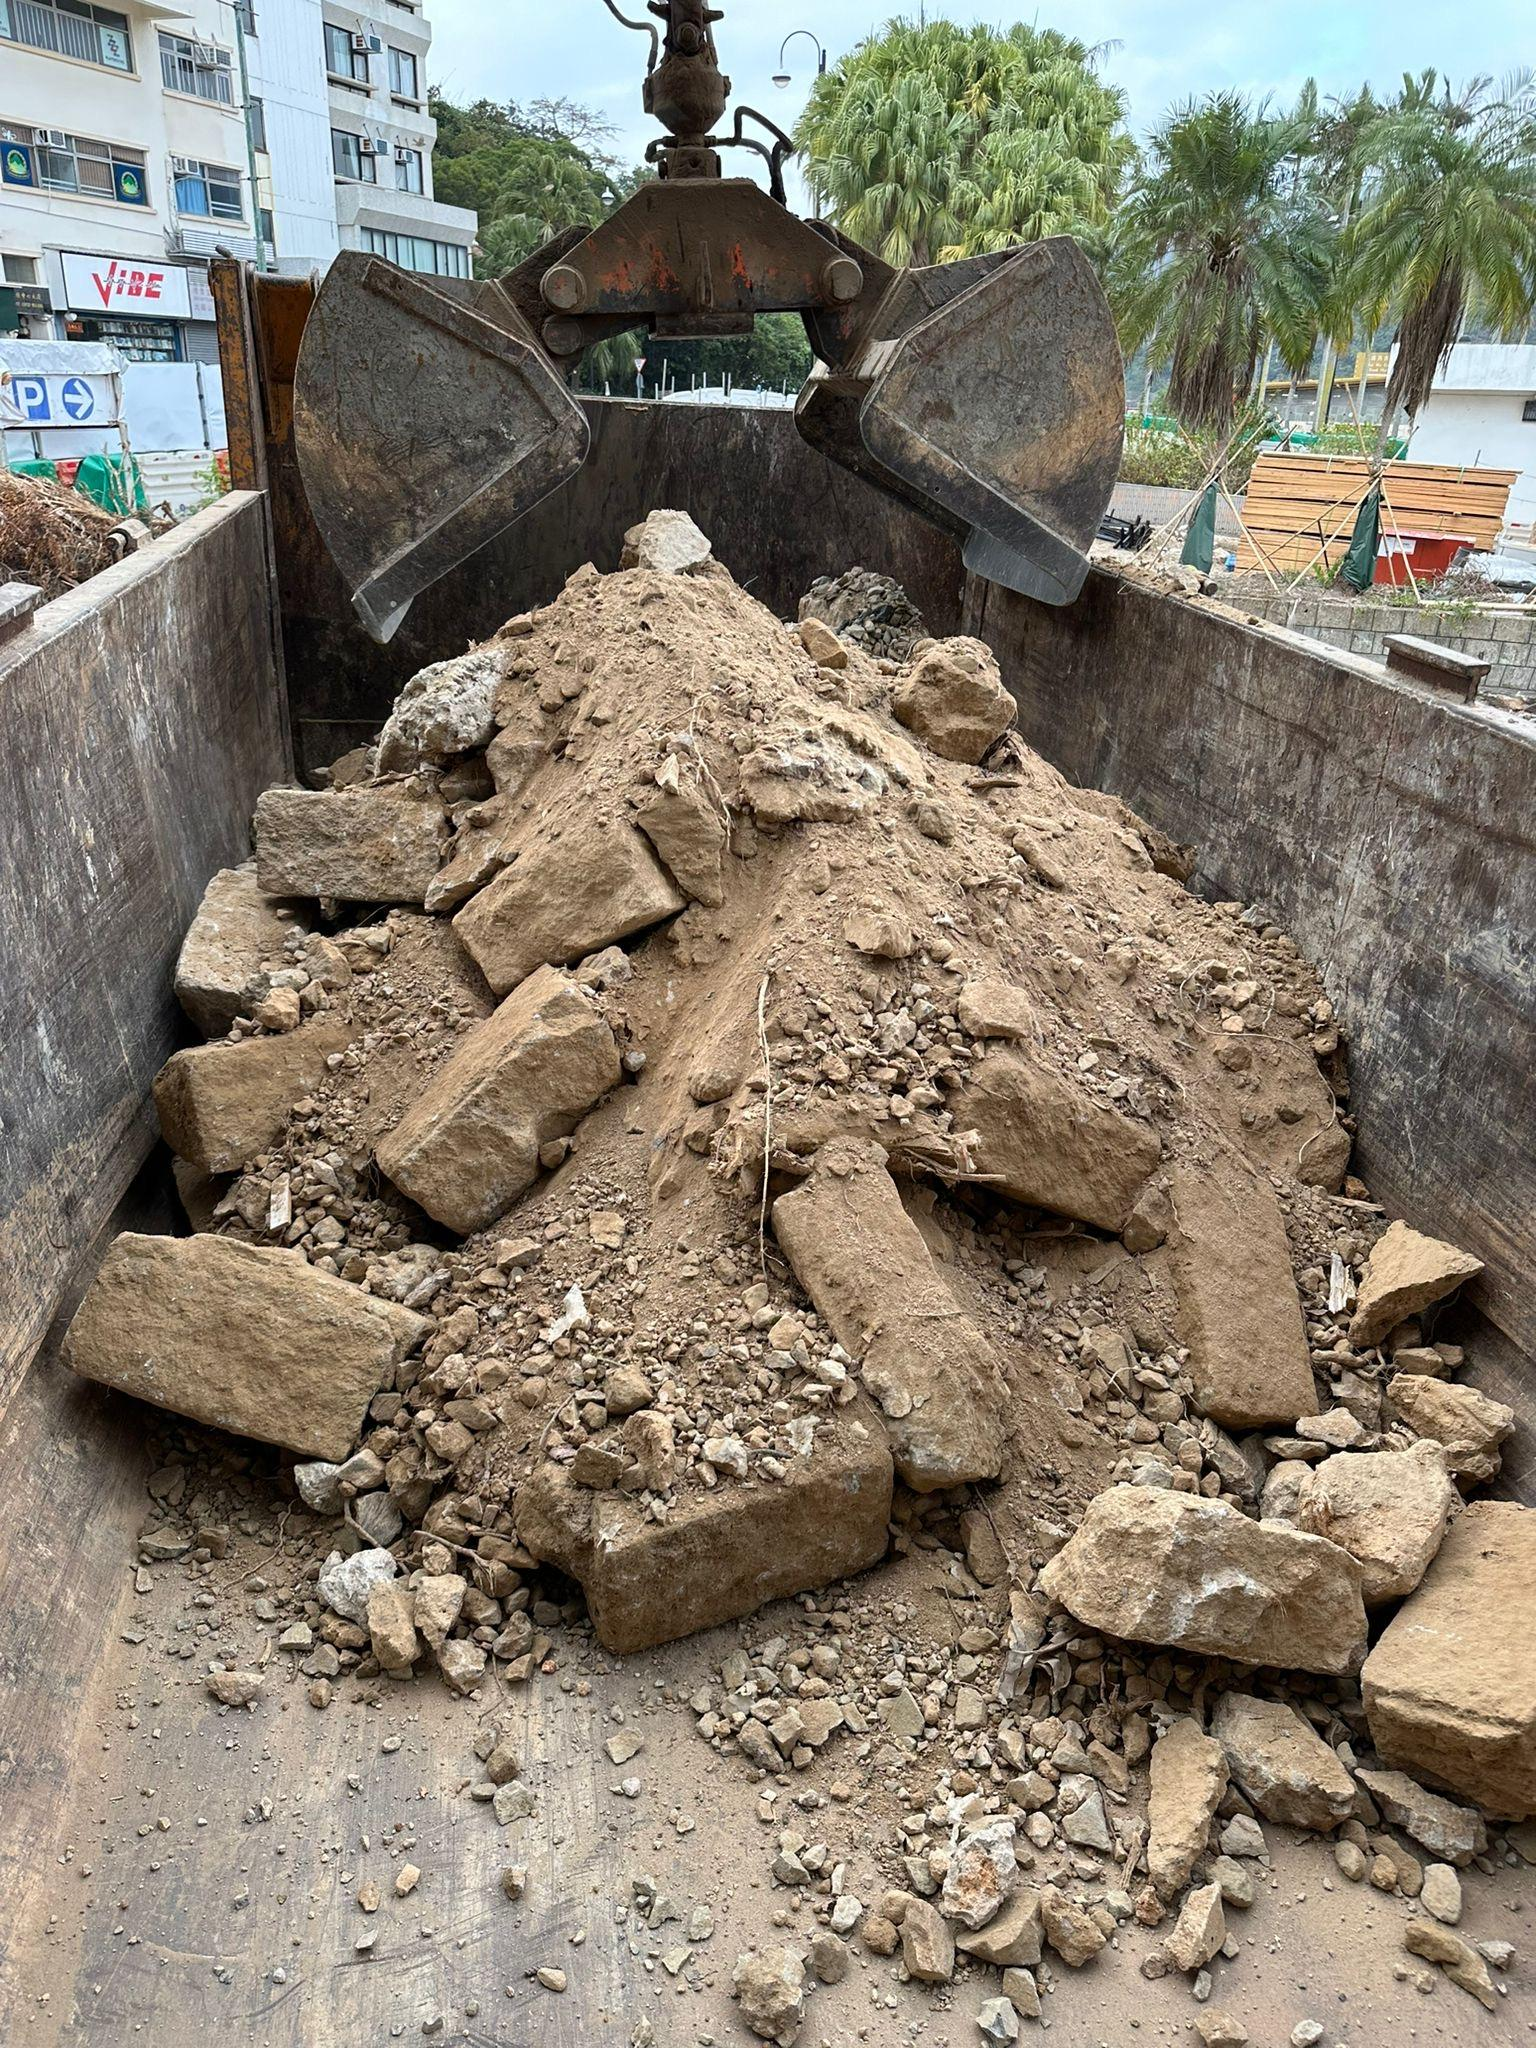dry: (150, 597, 1467, 1603)
